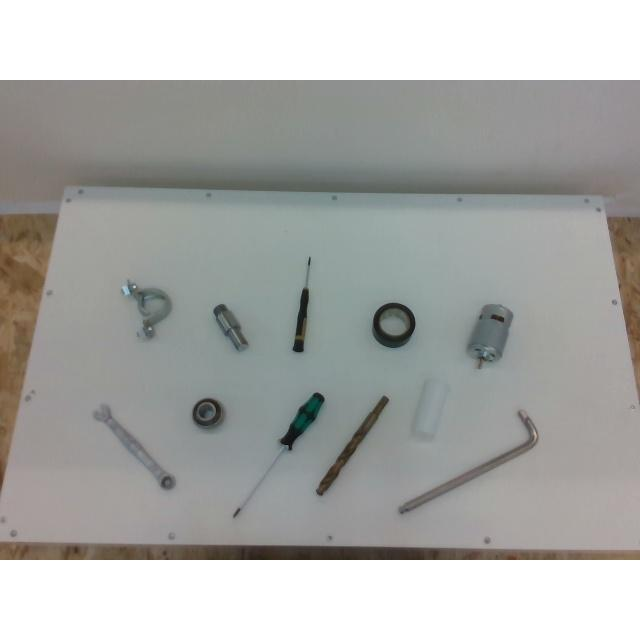AllenKey: (398, 409, 538, 513)
Axis2: (212, 304, 248, 350)
Bearing2: (192, 398, 224, 428)
Drill: (316, 395, 388, 495)
Housing: (121, 280, 171, 338)
Motor2: (468, 304, 512, 361)
Screwdriver: (232, 392, 324, 518)
Spacer: (411, 378, 447, 440)
Wrench: (93, 403, 175, 489)
